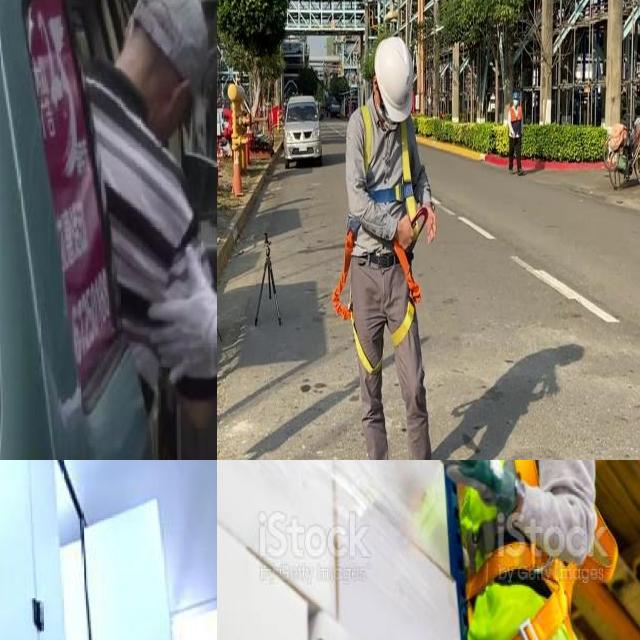Harness: (452, 460, 620, 640), (332, 227, 382, 374), (361, 105, 418, 220), (391, 240, 422, 348)
hand_glove: (146, 246, 217, 386)
head_nohelmet: (134, 0, 214, 67)
